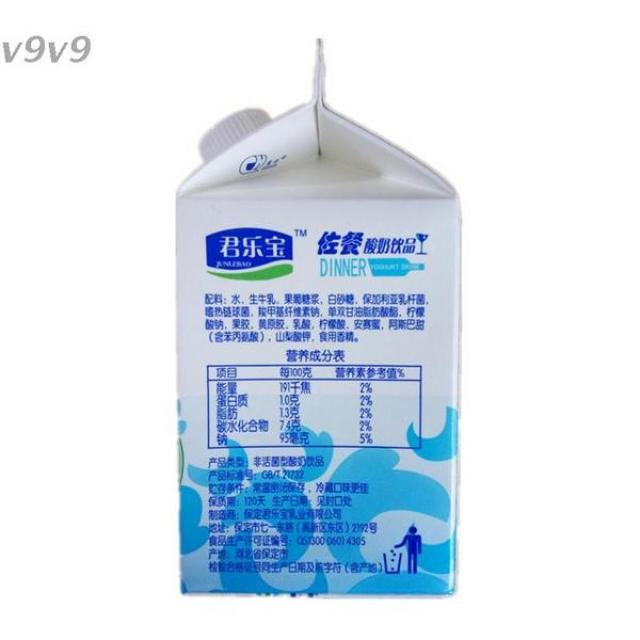non_white_jug: (156, 25, 466, 602)
